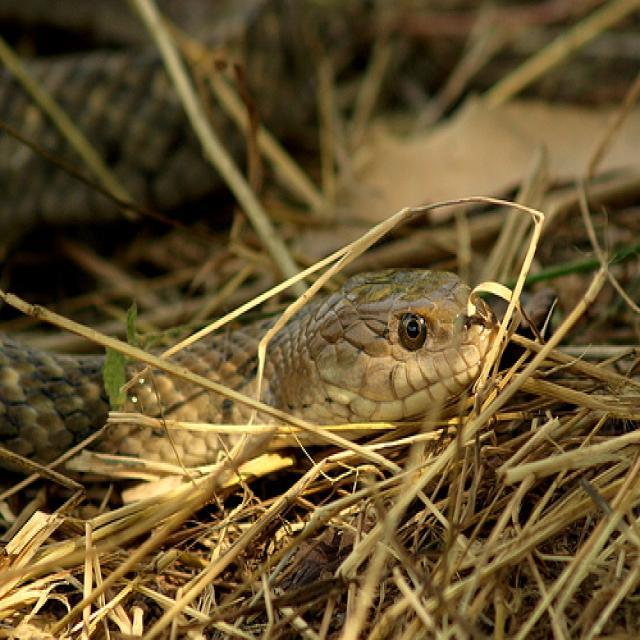Snake: (0, 262, 504, 475)
